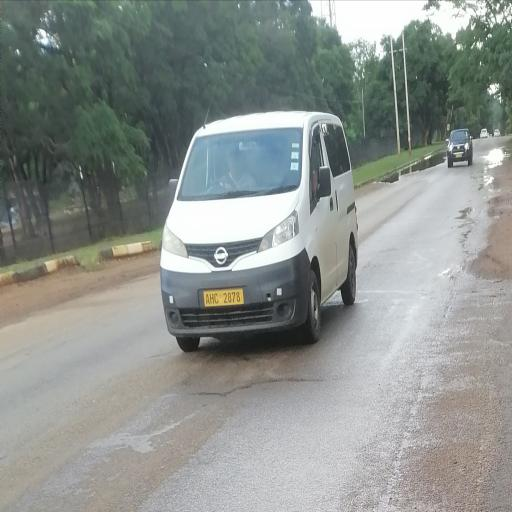number-plates: (202, 288, 245, 310)
